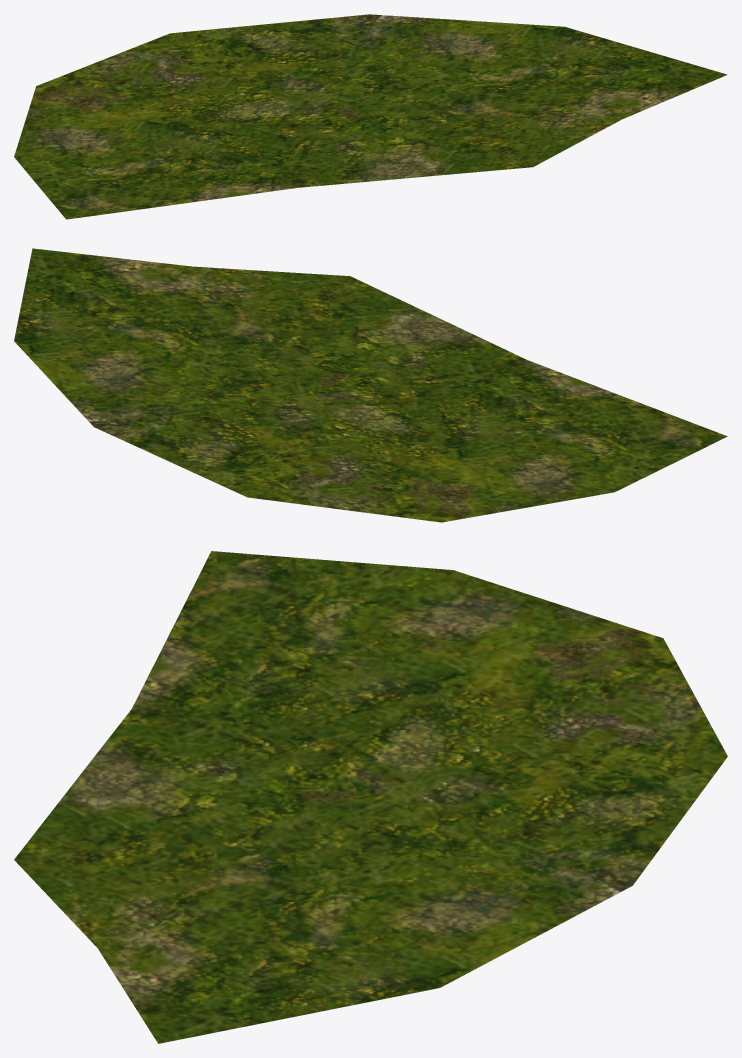
File: OVERHILL_A_01_LINE27.fbx
3 views of the same model, one above another, from view 1: azimuth 30°, elevation 25°; view 2: azimuth 150°, elevation 25°; view 3: azimuth 270°, elevation 25° (orthographic). The views are drawn at different scales.
Parts seen in each view (by area): view 1: OVERHILL_A_01_LINE27; view 2: OVERHILL_A_01_LINE27; view 3: OVERHILL_A_01_LINE27.
Part boxes in pixels (x1,y1,x2,y2): OVERHILL_A_01_LINE27: [14, 14, 727, 219]; OVERHILL_A_01_LINE27: [14, 248, 727, 522]; OVERHILL_A_01_LINE27: [14, 551, 727, 1043].
Size of the model in its own units: 33355 by 0.00333 by 20418.
1 material, 1 textured.
